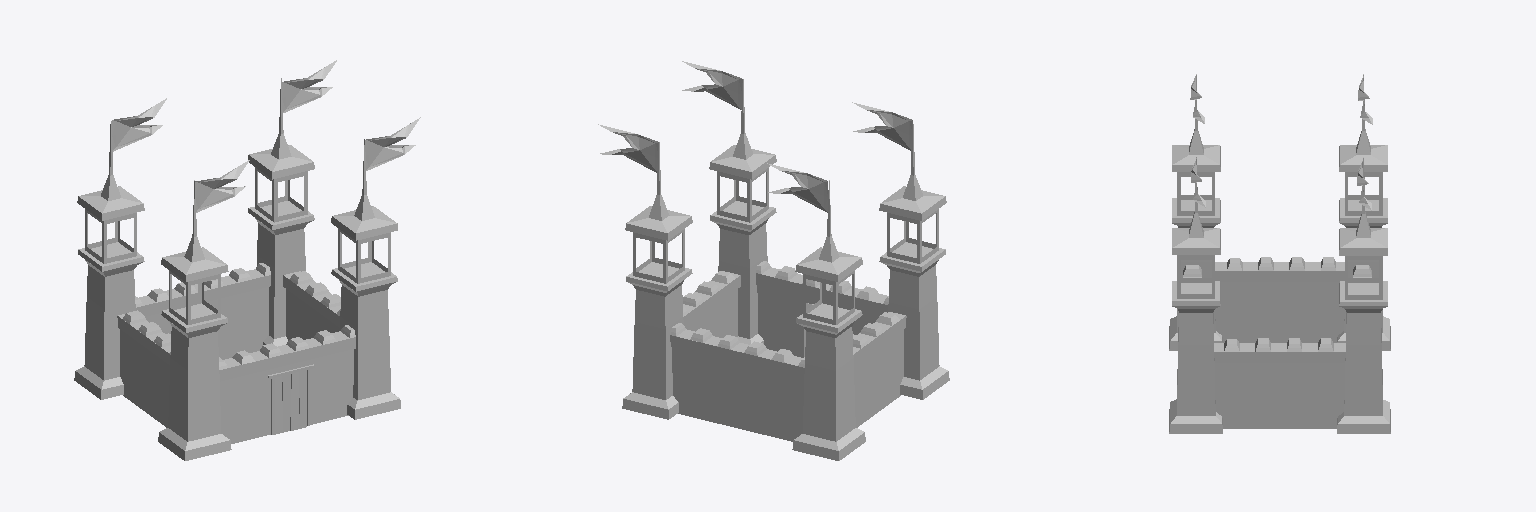
The model's file is castle.obj.
3 views of the same model, side by side, from view 1: azimuth 30°, elevation 25°; view 2: azimuth 150°, elevation 25°; view 3: azimuth 270°, elevation 25° (orthographic).
Parts seen in each view (by area): view 1: Plane.000_Plane.016, Plane.004, Plane.001, Plane.002_Plane.017, Plane.003_Plane.018, Plane.007, Plane.005, Plane.006, Plane.015, Plane.009_Plane.003, Plane.010_Plane.008, Plane (+1 smaller); view 2: Plane.007, Plane.002_Plane.017, Plane.003_Plane.018, Plane.000_Plane.016, Plane.001, Plane.004, Plane.005, Plane.006, Plane.009_Plane.003, Plane, Plane.008_Plane.002, Plane.010_Plane.008; view 3: Plane.006, Plane.005, Plane.003_Plane.018, Plane.001, Plane.000_Plane.016, Plane.002_Plane.017.
Part boxes in pixels (x1,y1,x2,y2): Plane.000_Plane.016: (158,180,231,460); Plane.004: (219,325,355,443); Plane.001: (331,139,400,419); Plane.002_Plane.017: (74,121,144,399); Plane.003_Plane.018: (248,78,314,346); Plane.007: (135,263,270,359); Plane.005: (117,310,170,427); Plane.006: (283,271,340,340); Plane.015: (268,364,314,434); Plane.009_Plane.003: (112,98,166,151); Plane.010_Plane.008: (282,60,336,112); Plane: (365,117,420,170); Plane.007: (670,323,804,441); Plane.002_Plane.017: (792,180,865,460); Plane.003_Plane.018: (622,142,692,419); Plane.000_Plane.016: (879,121,949,399); Plane.001: (709,79,776,344); Plane.004: (756,261,888,357); Plane.005: (853,312,906,427); Plane.006: (683,271,740,337); Plane.009_Plane.003: (767,163,827,212); Plane: (682,61,742,109); Plane.008_Plane.002: (852,102,912,150); Plane.010_Plane.008: (598,124,657,172); Plane.006: (1214,338,1345,428); Plane.005: (1215,257,1344,342); Plane.003_Plane.018: (1337,157,1390,433); Plane.001: (1169,157,1222,433); Plane.000_Plane.016: (1169,74,1222,350); Plane.002_Plane.017: (1337,74,1390,350).
Size of the model in its own units: 4.01 by 4.13 by 3.04.